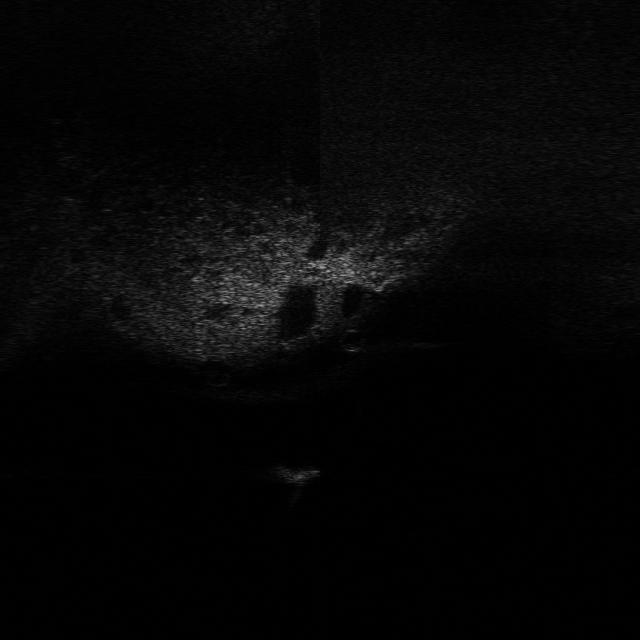ball: (334, 327, 370, 354)
cube: (256, 461, 323, 488)
